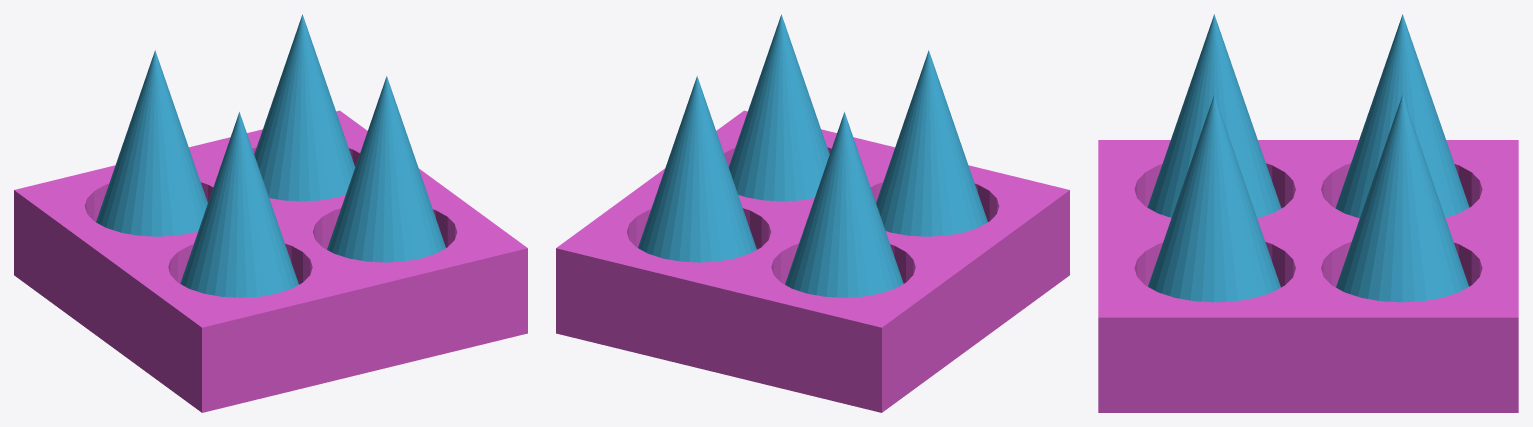
Rendered from spikes_1.fbx.
The picture shows the model from 3 angles, left to right: view 1: azimuth 30°, elevation 25°; view 2: azimuth 150°, elevation 25°; view 3: azimuth 270°, elevation 25°; orthographic projection. The views are drawn at different scales.
Visible parts, largest first — view 1: Cube, Cone.002; view 2: Cube, Cone.002; view 3: Cube, Cone.002.
Boxes of the visible parts, x1,y1,x2,y2 form: Cube: [14, 110, 527, 412]; Cone.002: [96, 14, 445, 297]; Cube: [556, 110, 1069, 412]; Cone.002: [638, 14, 987, 297]; Cube: [1098, 140, 1518, 412]; Cone.002: [1147, 14, 1469, 302].
Size of the model in its own units: 200 by 142 by 200.
